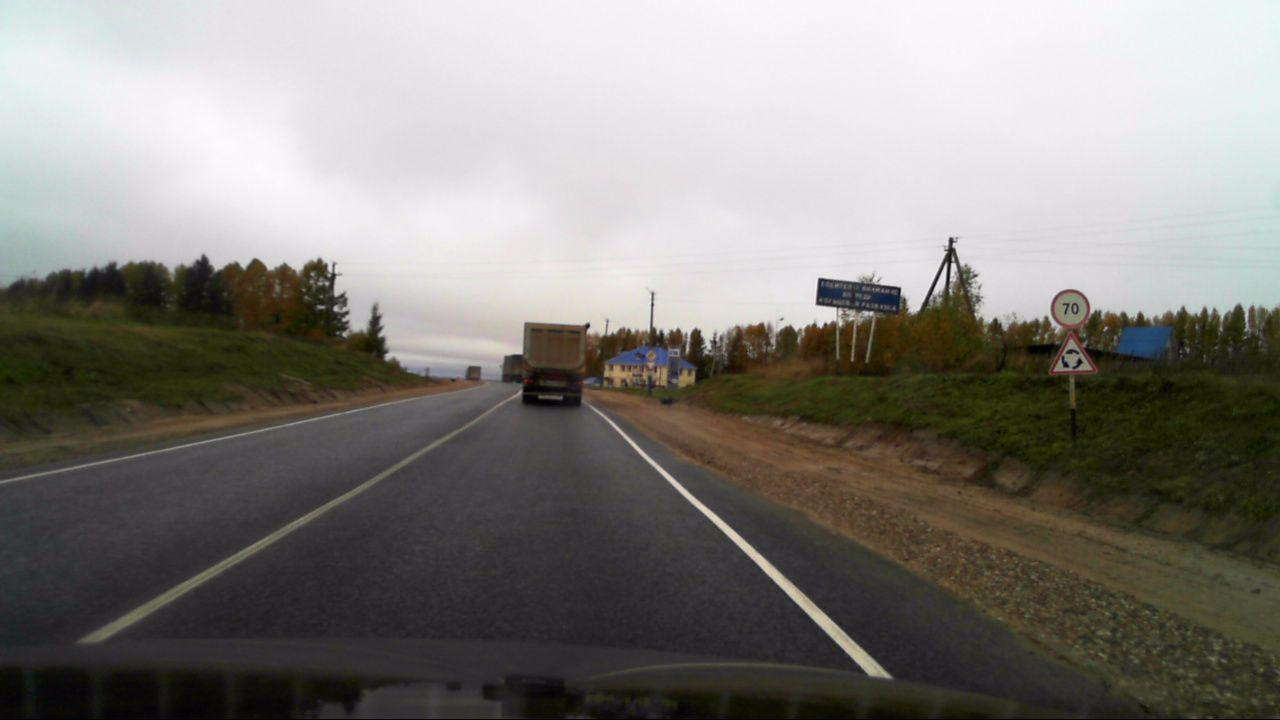1_7: (1048, 332, 1096, 375)
2_2: (646, 350, 657, 361)
2_4: (646, 362, 657, 370)
3_24: (1049, 287, 1094, 329)
